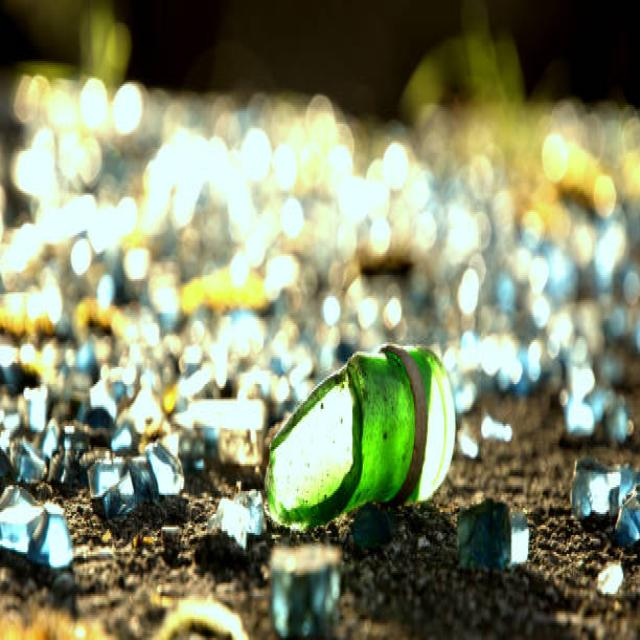electronic: (262, 340, 458, 538)
